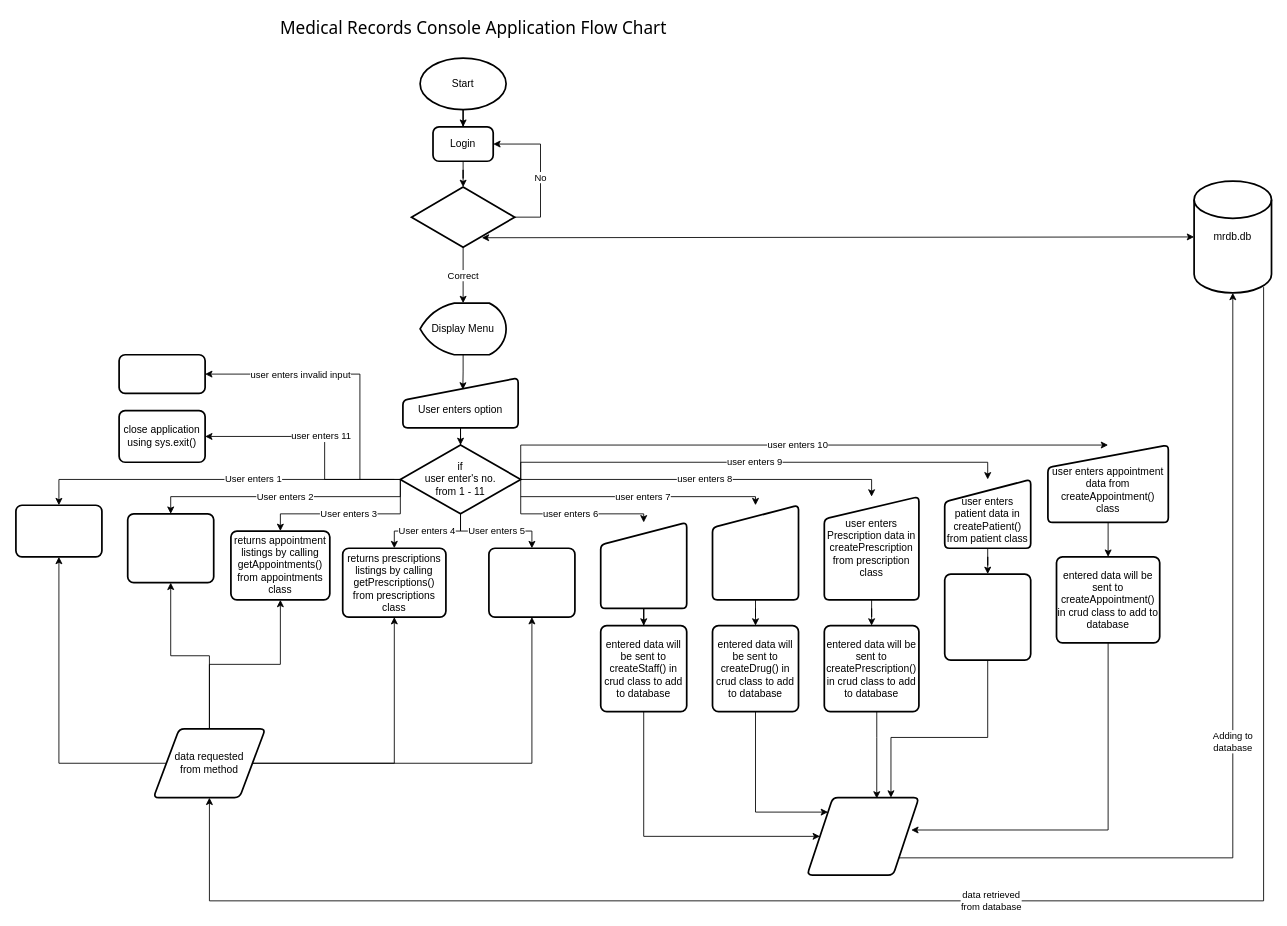
Image size: 1287x926. Some labels were removed from this diagram. Each missing label, with the box of its shape:
Correct Details?: (410, 186, 515, 248)
data to add to database: (806, 796, 919, 875)
entered data will be sent to createPatient() in crud class to add to database: (943, 573, 1031, 660)
returns drug inventory listings by calling getDrugs() from drugs class.: (126, 513, 214, 583)
returns patient listings by calling getPatients() from patients class: (488, 547, 575, 617)
returns Staff records by calling getStaff() from staff class: (15, 504, 102, 557)
user enters drug data in createDrug() from drug class: (711, 504, 799, 600)
user enters new staff data in createStaff() from staff class: (599, 521, 687, 609)
ValueError exception raised: (118, 353, 206, 394)
